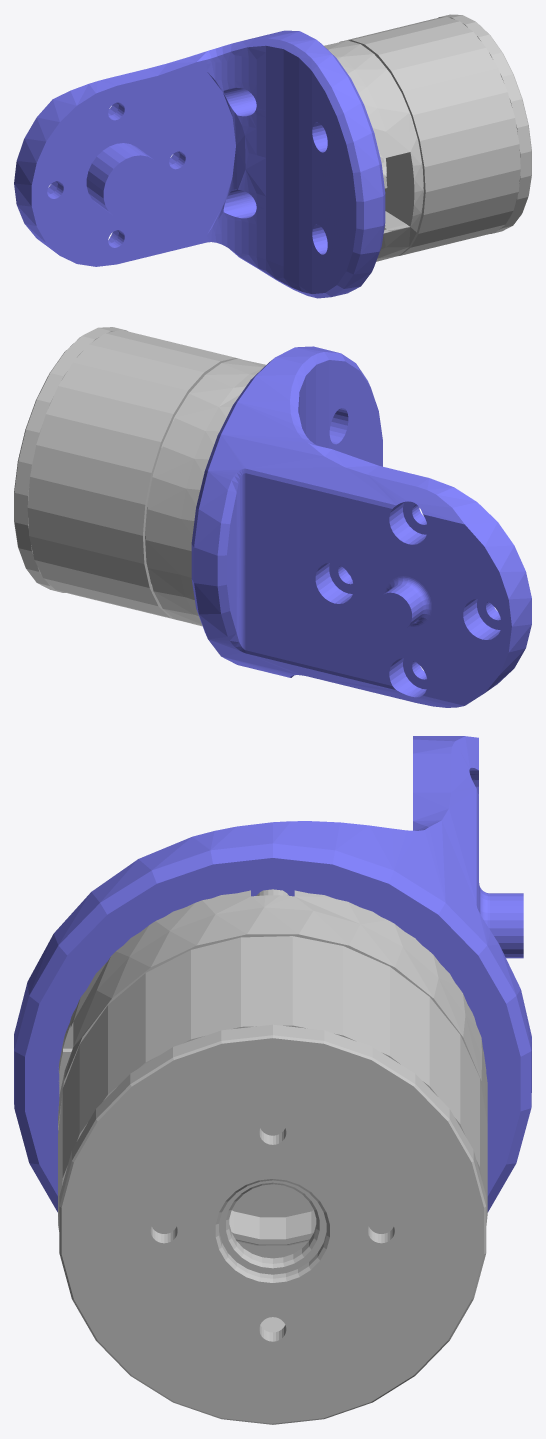
Rendered from forearm_link.dae.
The picture shows the model from 3 angles, top to bottom: view 1: azimuth 30°, elevation 25°; view 2: azimuth 150°, elevation 25°; view 3: azimuth 270°, elevation 25°; orthographic projection. The views are drawn at different scales.
Parts seen in each view (by area): view 1: node0, node1; view 2: node0, node1; view 3: node1, node0.
Part boxes in pixels (x1,y1,x2,y2): node0: [14, 30, 385, 298]; node1: [324, 14, 531, 261]; node0: [191, 346, 531, 707]; node1: [14, 327, 265, 626]; node1: [58, 889, 487, 1424]; node0: [14, 736, 531, 1212].
Size of the model in its own units: 0.084 by 0.0477 by 0.048.
